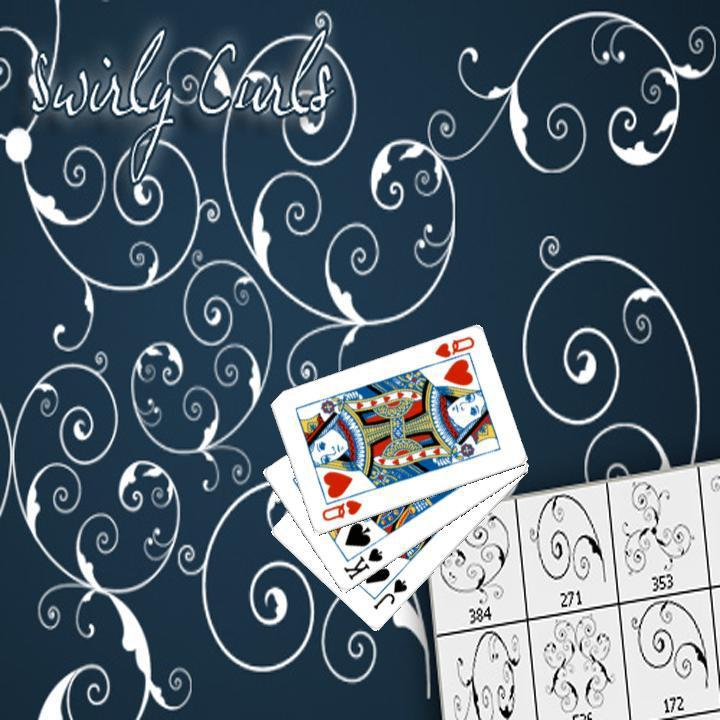J: (369, 574, 410, 612)
K: (339, 543, 385, 583)
Q: (428, 332, 477, 368), (317, 496, 364, 524)
